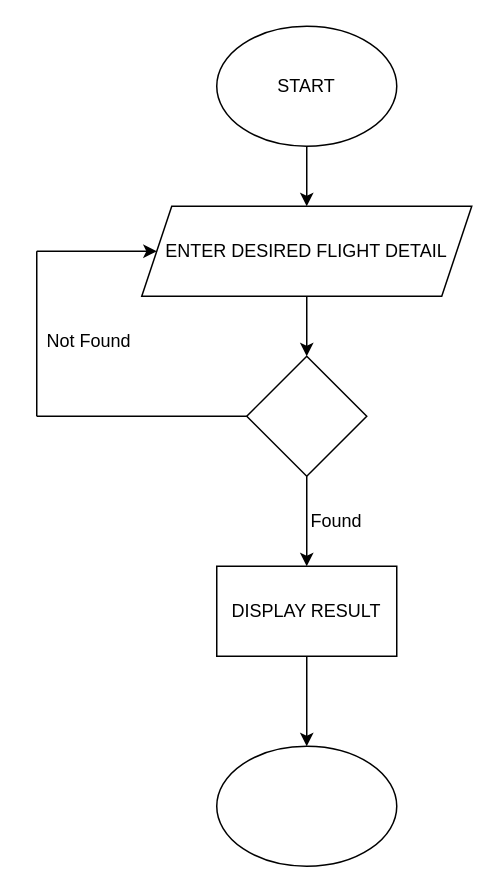
Some shapes in this 498 by 893 pixel diagram are drawn without their labels. Here are the shapes that lost their labels. From the top down, the box of each, then its label:
(245, 355, 367, 476): SEARCH
(215, 745, 397, 866): END
